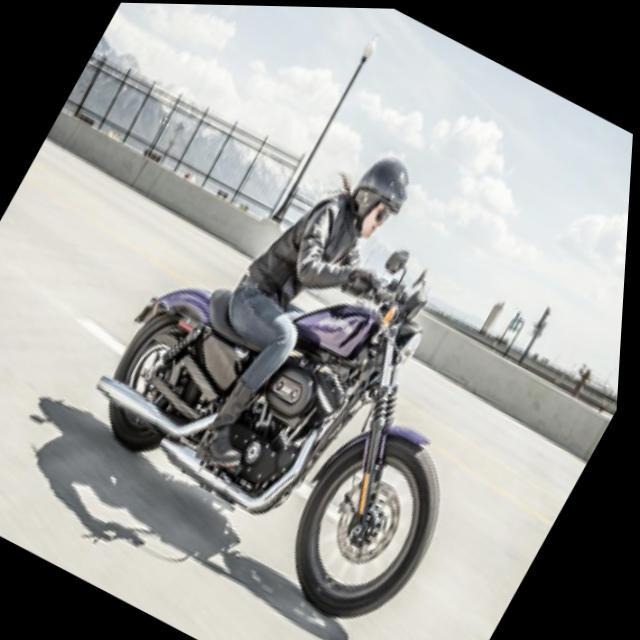Helmet: (341, 152, 414, 238)
